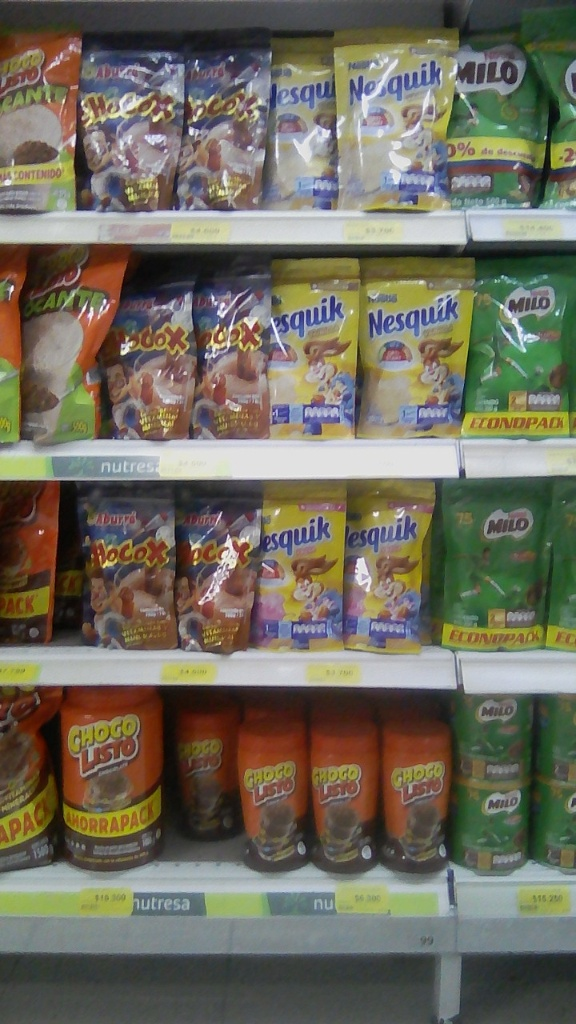COL0170102DYP50000: (21, 241, 125, 448)
COL0170103DYP1,500: (0, 690, 56, 865)
COL0170103DYP36000: (0, 479, 64, 649)
COL0170103TRR00100: (55, 684, 165, 878)
COL0170103TRR30000: (381, 722, 454, 872)
COL0170203DYP25000: (439, 476, 552, 650)
COL0170203DYP50000: (444, 18, 547, 208)
COL0170203LAT40000: (450, 774, 533, 879)
COL0170305DYP20000: (344, 478, 434, 655)
COL0170306DYP20000: (333, 29, 456, 212)
